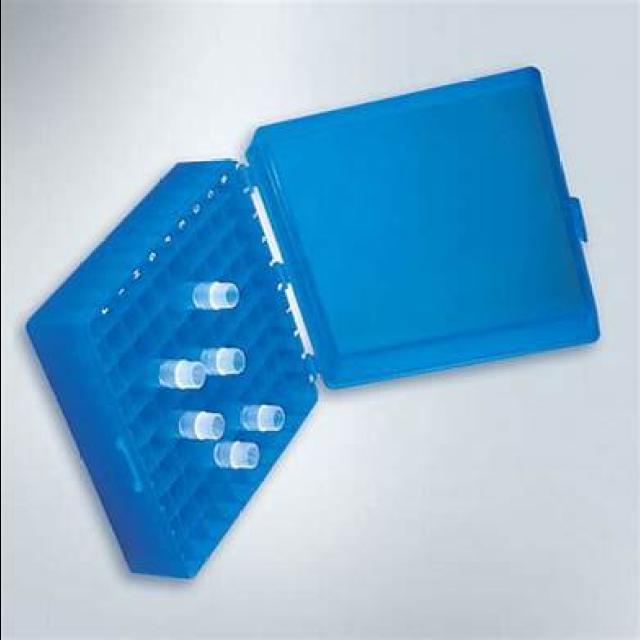vial: (206, 410, 226, 446), (266, 402, 286, 436), (220, 280, 236, 318), (186, 362, 204, 392), (242, 444, 260, 471), (229, 350, 243, 377)
